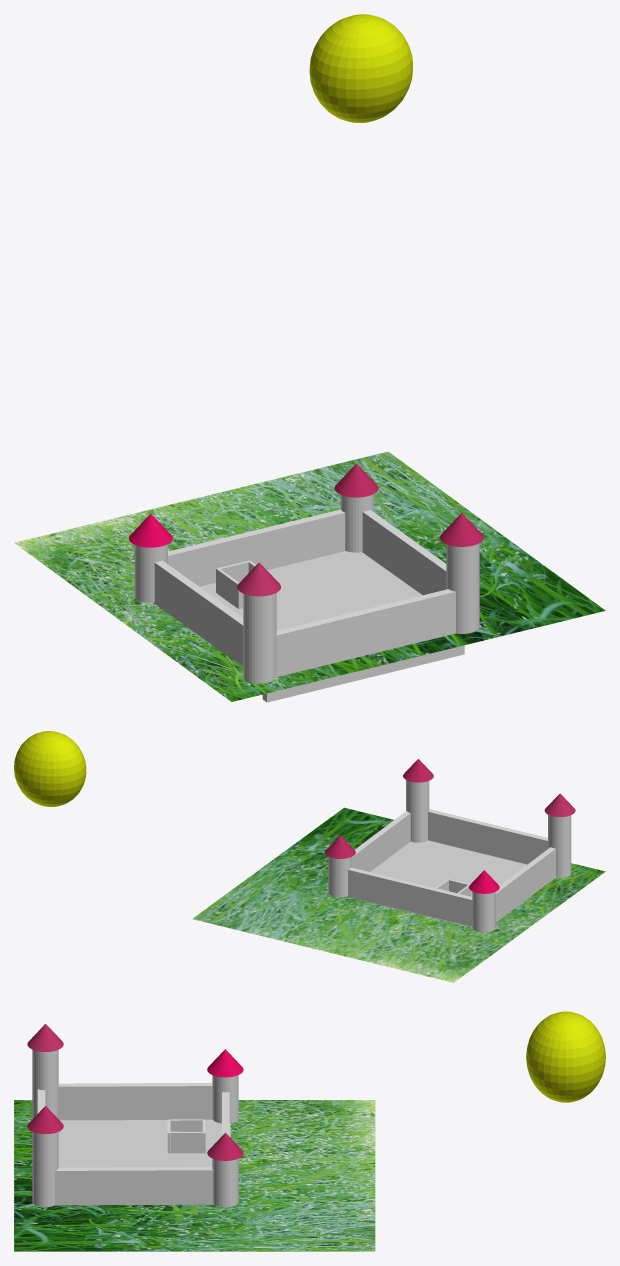
The picture shows the model from 3 angles, top to bottom: view 1: azimuth 30°, elevation 25°; view 2: azimuth 150°, elevation 25°; view 3: azimuth 270°, elevation 25°; orthographic projection. The views are drawn at different scales.
Parts seen in each view (by area): view 1: Plane, Cube.001, Sphere, Plane.001, Cube, Cube.003, Cube.002, Cylinder.004, Cylinder.002, Cylinder.003, Cylinder.001, Cone.002 (+3 smaller); view 2: Plane, Plane.001, Sphere, Cube, Cube.001, Cube.003, Cube.002, Cylinder.002, Cylinder.004, Cylinder.003, Cylinder.001, Cone (+3 smaller); view 3: Plane, Plane.001, Cube.002, Cube.003, Sphere, Cylinder.002, Cylinder.004, Cylinder.001, Cylinder.003, Cube.007, Cone.001, Cone.002 (+4 smaller).
Part boxes in pixels (x1,y1,x2,y2): Plane: [14, 451, 605, 701]; Cube.001: [262, 589, 464, 702]; Sphere: [309, 14, 412, 122]; Plane.001: [199, 551, 422, 665]; Cube: [168, 509, 345, 586]; Cube.003: [153, 560, 243, 666]; Cube.002: [362, 510, 446, 595]; Cylinder.004: [243, 593, 276, 683]; Cylinder.002: [446, 543, 479, 633]; Cylinder.003: [134, 544, 167, 602]; Cylinder.001: [340, 494, 373, 552]; Cone.002: [334, 463, 378, 497]; Plane: [192, 807, 605, 982]; Plane.001: [370, 840, 555, 927]; Sphere: [14, 731, 86, 806]; Cube: [346, 867, 472, 926]; Cube.001: [428, 809, 547, 864]; Cube.003: [495, 847, 555, 922]; Cube.002: [351, 811, 410, 871]; Cylinder.002: [406, 780, 429, 842]; Cylinder.004: [548, 814, 571, 877]; Cylinder.003: [472, 891, 495, 932]; Cylinder.001: [328, 856, 351, 897]; Cone: [403, 759, 433, 782]; Plane: [14, 1100, 375, 1251]; Plane.001: [58, 1119, 230, 1167]; Cube.002: [55, 1167, 213, 1205]; Cube.003: [57, 1082, 212, 1120]; Sphere: [526, 1011, 605, 1102]; Cylinder.002: [32, 1132, 58, 1207]; Cylinder.004: [32, 1050, 58, 1119]; Cylinder.001: [212, 1158, 238, 1207]; Cylinder.003: [212, 1075, 238, 1123]; Cube.007: [170, 1131, 202, 1153]; Cone.001: [207, 1049, 243, 1077]; Cone.002: [207, 1132, 243, 1160].
Bounding box in the file's own units: 112 × 73.73 × 136.
11 materials, 1 textured.
